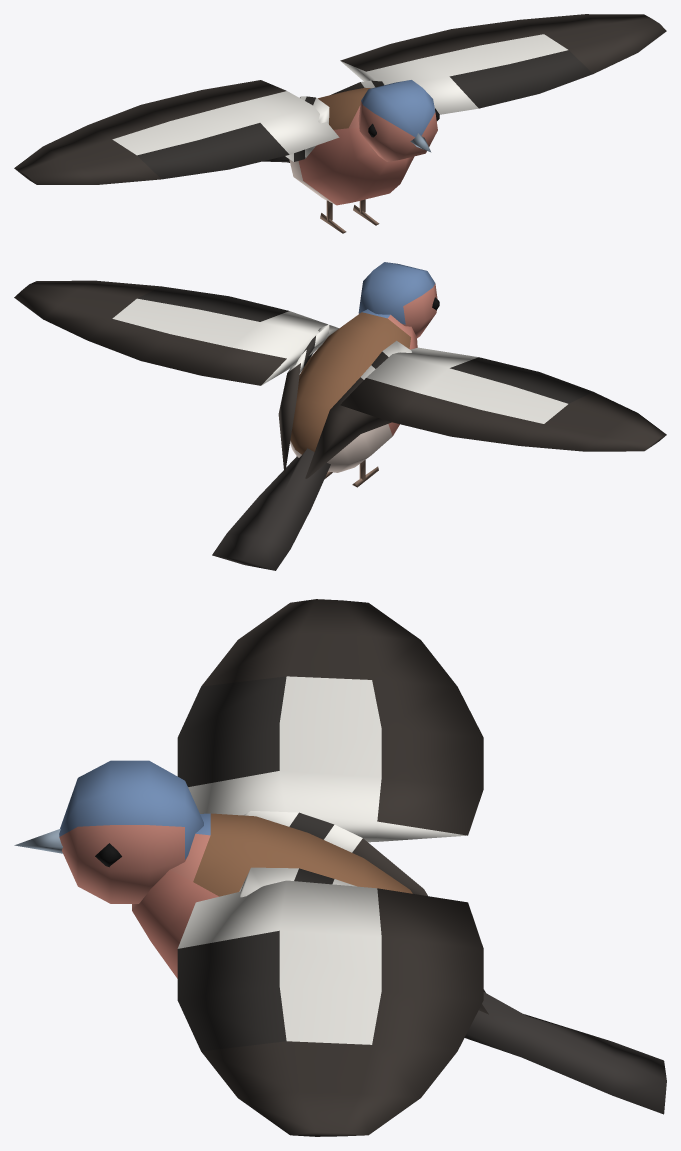
Rendered from chaffinch.glb.
3 renders of one model, top to bottom at view 1: azimuth 30°, elevation 25°; view 2: azimuth 150°, elevation 25°; view 3: azimuth 270°, elevation 25°, orthographic. The views are drawn at different scales.
Visible parts, largest first — view 1: wing.R, wing.L, body, head; view 2: wing.R, wing.L, body, tail, head; view 3: wing.L, wing.R, body, head, tail.
Part boxes in pixels (box(x1,y1,x2,y2)): wing.R: box(14, 80, 339, 184); wing.L: box(340, 14, 666, 114); body: box(285, 80, 414, 233); head: box(358, 80, 439, 161); wing.R: box(340, 347, 666, 451); wing.L: box(14, 280, 338, 385); body: box(278, 309, 417, 487); tail: box(212, 448, 330, 570); head: box(358, 262, 439, 338); wing.L: box(177, 880, 483, 1136); wing.R: box(177, 599, 483, 842); body: box(132, 811, 488, 1014); head: box(14, 760, 203, 903); tail: box(464, 992, 666, 1114).
Size of the model in its own units: 0.26 by 0.0716 by 0.1347.
